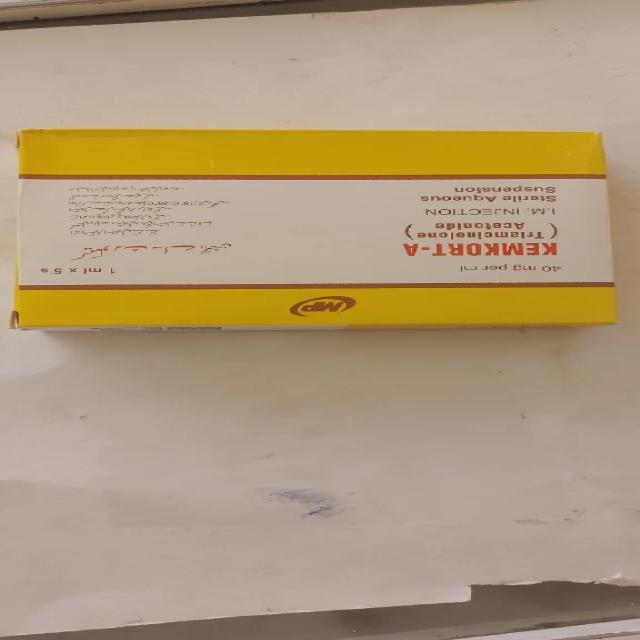drug-name: (398, 238, 560, 260)
